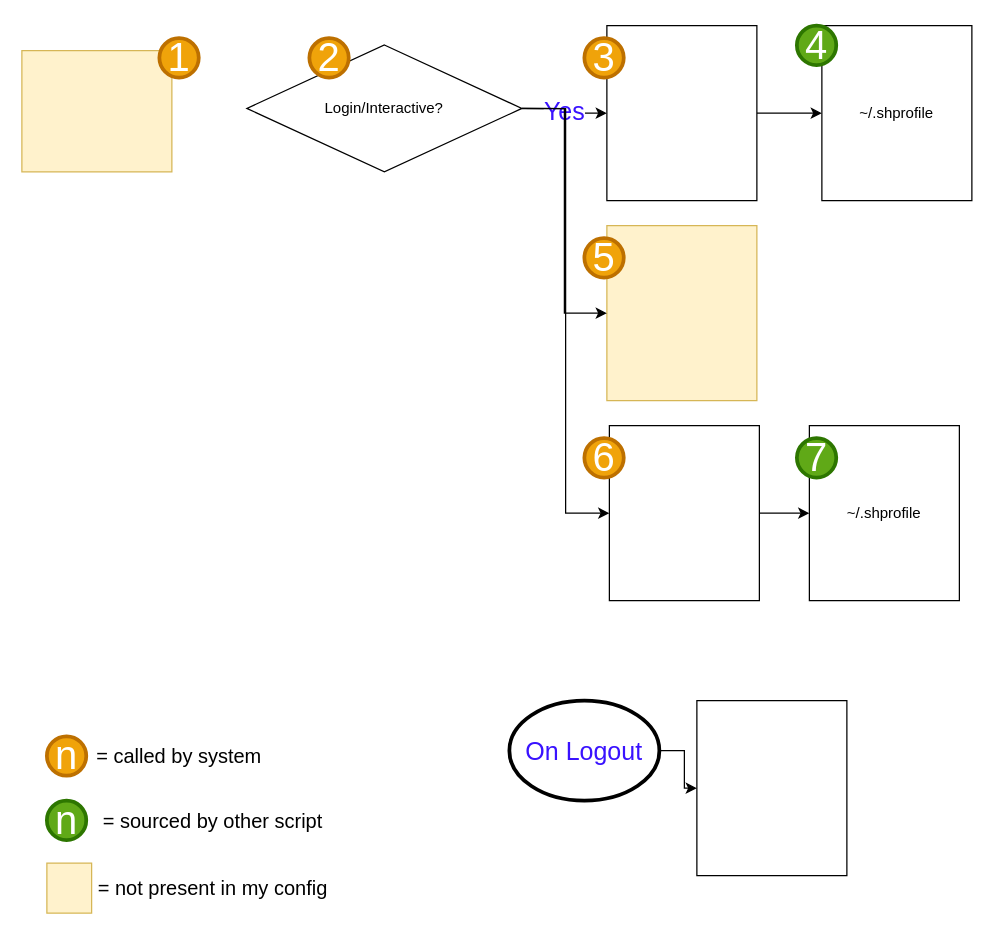
Some shapes in this 994 by 935 pixel diagram are drawn without their labels. The centre of each missing label's shape, as x and y in pixels:
"/etc/zshenv ~/.zshenv" goes at (96,110).
"etc/schrc ~/.zshrc" goes at (683,512).
"etc/zlogin ~/.zlogin" goes at (681,312).
"etc/zprofile ~/.zprofile" goes at (681,112).
"~/.zlogout etc/zlogout" goes at (771,787).
